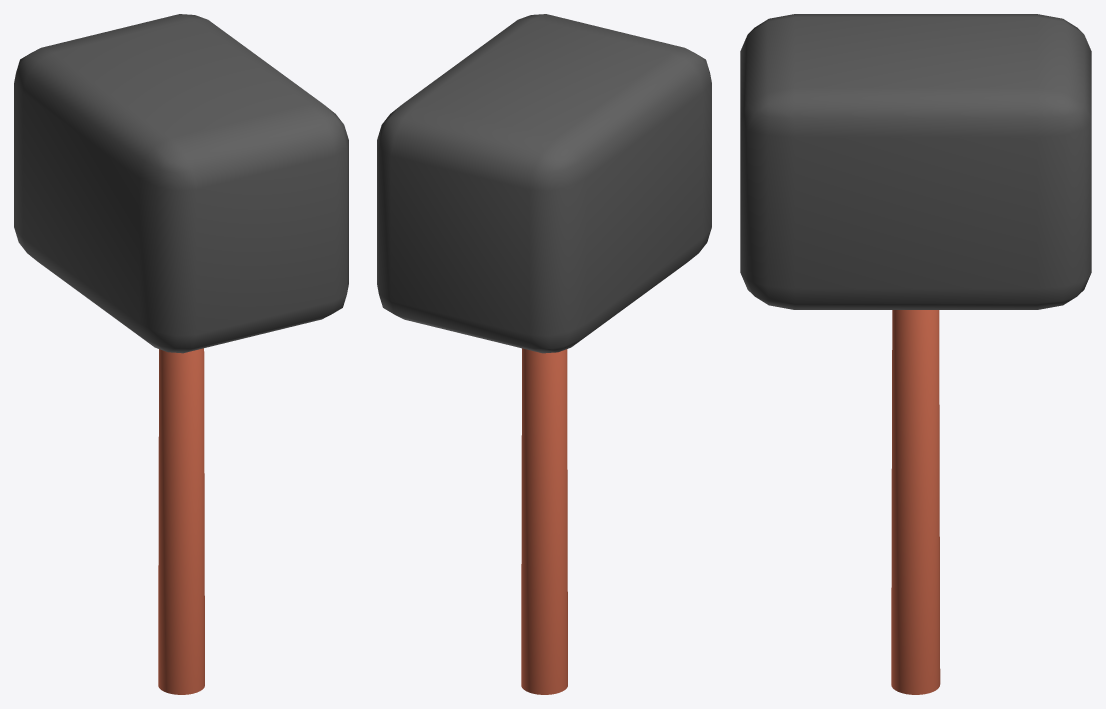
File: Wack-A-MoleHammer.fbx
The picture shows the model from 3 angles, left to right: view 1: azimuth 30°, elevation 25°; view 2: azimuth 150°, elevation 25°; view 3: azimuth 270°, elevation 25°; orthographic projection. The views are drawn at different scales.
Visible parts, largest first — view 1: Cylinder.001; view 2: Cylinder.001; view 3: Cylinder.001.
Boxes of the visible parts, box(x1,y1,x2,y2) form: Cylinder.001: box(14, 14, 348, 694); Cylinder.001: box(377, 14, 711, 694); Cylinder.001: box(740, 14, 1091, 694).
Size of the model in its own units: 39.25 by 113 by 57.04.
